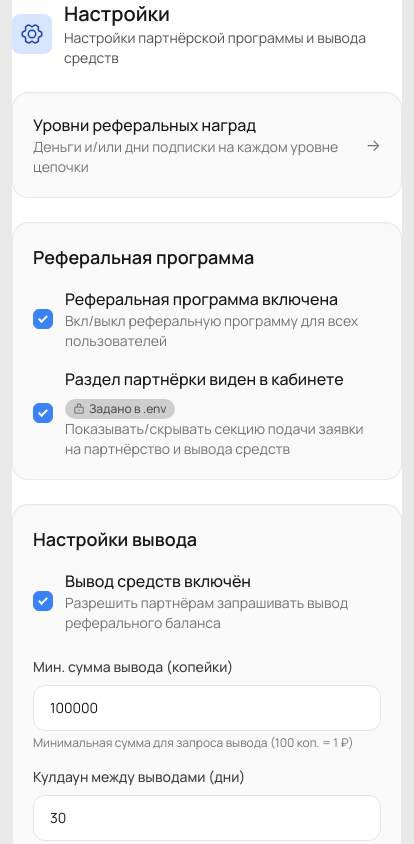
it: env-locked partner and ticket settings › keeps partner cache server-confirmed and shows the PATCH error
The width and height of the screenshot is (414, 844).
Click the checkbox labelled "Реферальная программа включена": {"x": 43, "y": 319} [33,309,53,329]
(page scrolled)
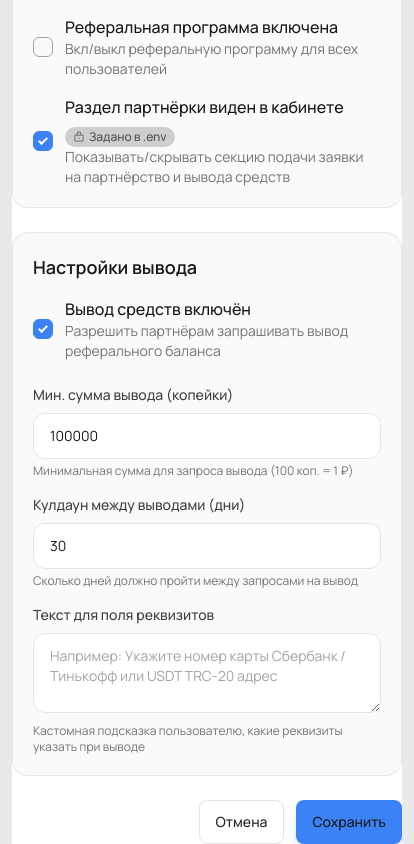
Click the button "Сохранить": {"x": 349, "y": 822} [296,800,402,843]
(page scrolled)
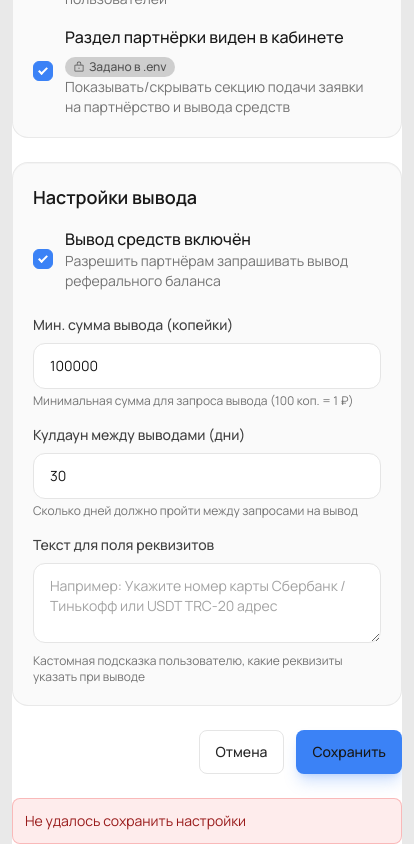
Check: the text "Не удалось сохранить настройки" is shown, box [12,798,402,843]
